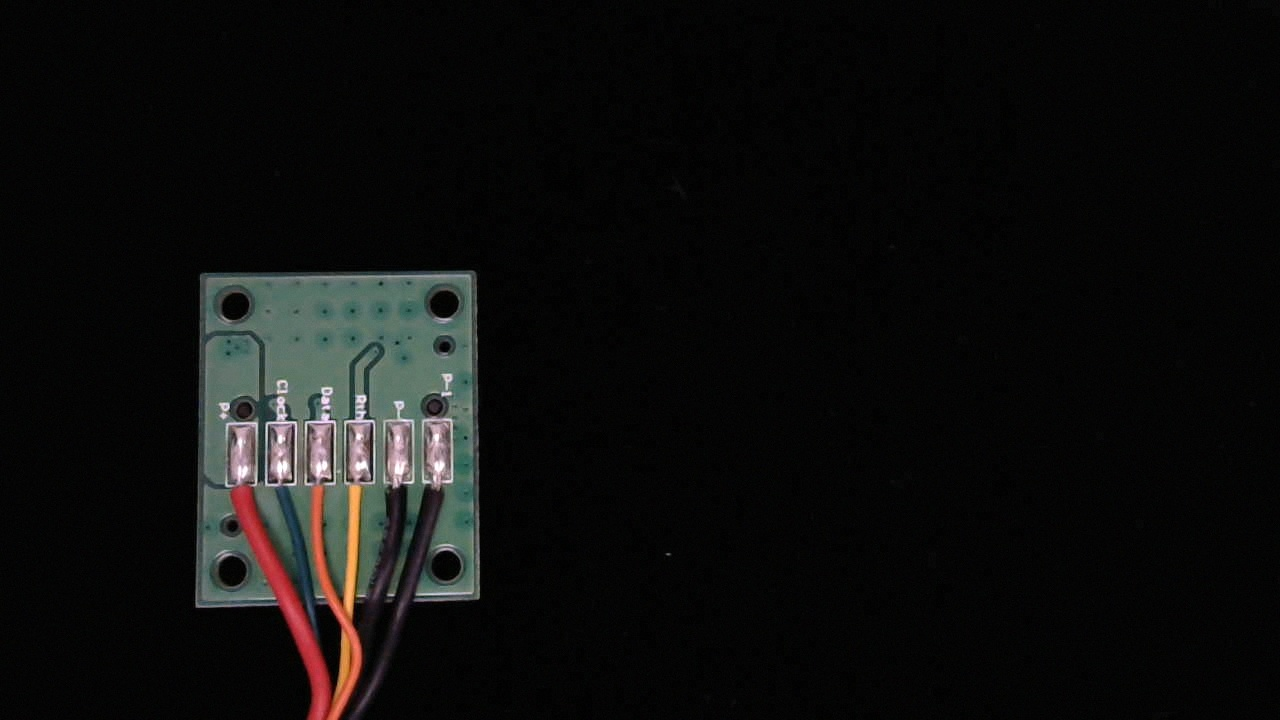Black: (389, 464, 420, 537)
Black1: (429, 467, 460, 529)
Green: (268, 467, 297, 527)
Orange: (309, 464, 339, 530)
Red: (228, 465, 260, 534)
Yellow: (350, 464, 379, 539)
